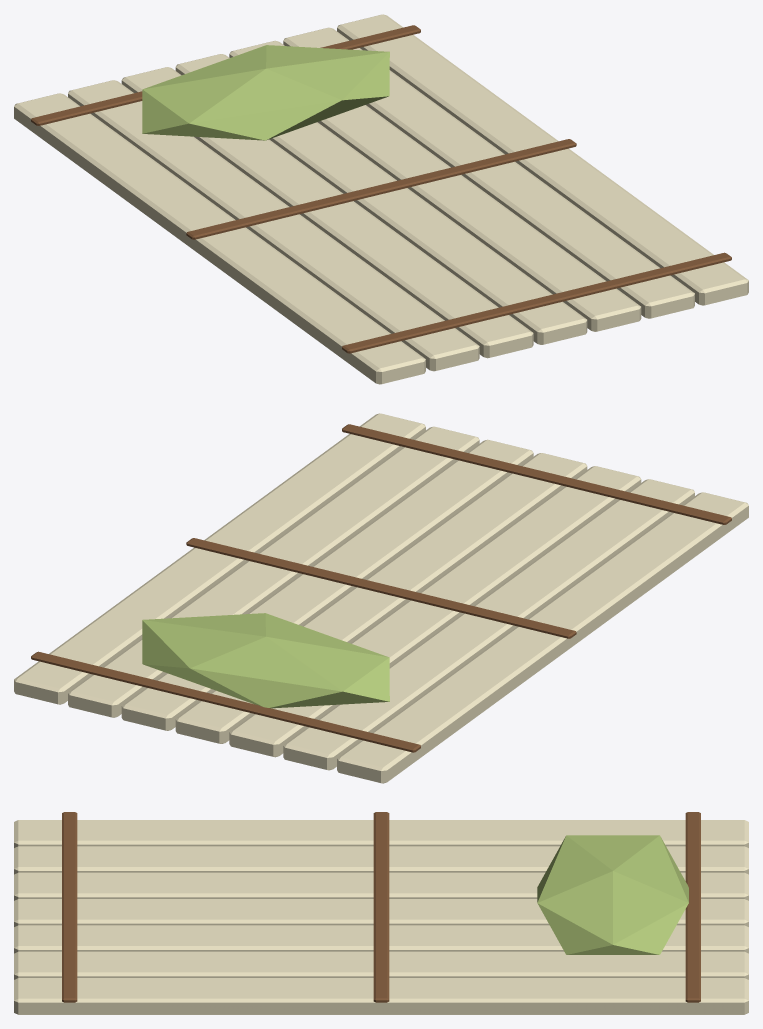
The model's file is CC_SleepingMat.fbx.
3 renders of one model, top to bottom at view 1: azimuth 30°, elevation 25°; view 2: azimuth 150°, elevation 25°; view 3: azimuth 270°, elevation 25°, orthographic.
Visible parts, largest first — view 1: Woven strip, Woven strip.006, Woven strip.001, Pillow, Woven strip.005, Woven strip.002, Woven strip.004, Woven strip.003, Binding.003, Binding.002, Binding.004; view 2: Woven strip, Woven strip.006, Woven strip.001, Pillow, Woven strip.005, Woven strip.002, Woven strip.004, Woven strip.003, Binding.003, Binding.002, Binding.004; view 3: Woven strip.006, Woven strip.005, Woven strip, Woven strip.004, Woven strip.001, Pillow, Woven strip.003, Woven strip.002, Binding.003, Binding.002, Binding.004.
Part boxes in pixels (box(x1,y1,x2,y2)): Woven strip: box(14, 93, 425, 384); Woven strip.006: box(337, 14, 748, 305); Woven strip.001: box(68, 80, 479, 371); Pillow: box(142, 45, 389, 140); Woven strip.005: box(283, 27, 694, 318); Woven strip.002: box(121, 67, 533, 358); Woven strip.004: box(229, 40, 641, 331); Woven strip.003: box(175, 54, 587, 344); Binding.003: box(186, 139, 576, 239); Binding.002: box(342, 252, 731, 353); Binding.004: box(31, 25, 420, 125); Woven strip: box(337, 492, 748, 783); Woven strip.006: box(14, 413, 425, 704); Woven strip.001: box(283, 479, 694, 770); Pillow: box(142, 613, 389, 708); Woven strip.005: box(68, 426, 479, 717); Woven strip.002: box(229, 466, 641, 757); Woven strip.004: box(121, 439, 533, 730); Woven strip.003: box(175, 453, 587, 743); Binding.003: box(186, 538, 576, 638); Binding.002: box(342, 424, 731, 524); Binding.004: box(31, 651, 420, 752); Woven strip.006: box(14, 978, 748, 1014); Woven strip.005: box(14, 951, 748, 979); Woven strip: box(14, 820, 748, 847); Woven strip.004: box(14, 925, 748, 953); Woven strip.001: box(14, 846, 748, 874); Pillow: box(537, 835, 688, 954); Woven strip.003: box(14, 899, 748, 926); Woven strip.002: box(14, 872, 748, 900); Binding.003: box(373, 812, 389, 1002); Binding.002: box(62, 812, 77, 1002); Binding.004: box(685, 812, 700, 1002).
Size of the model in its own units: 2.4 by 0.324 by 3.96.
